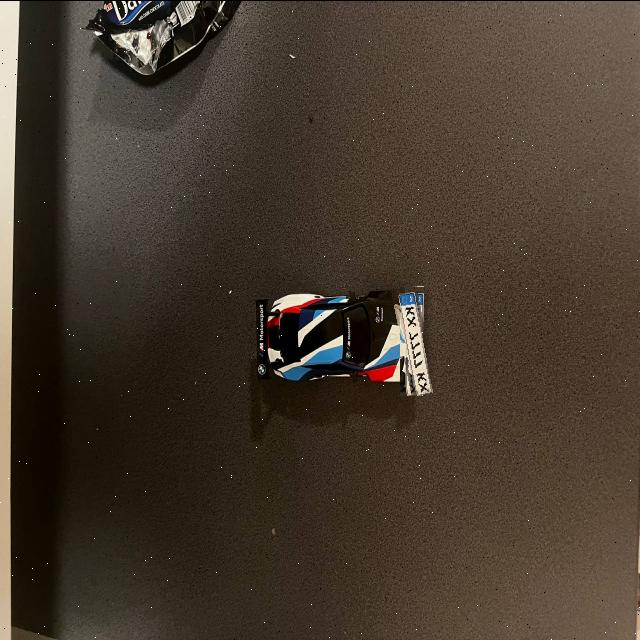KX 7777 KX: (391, 286, 433, 395)
